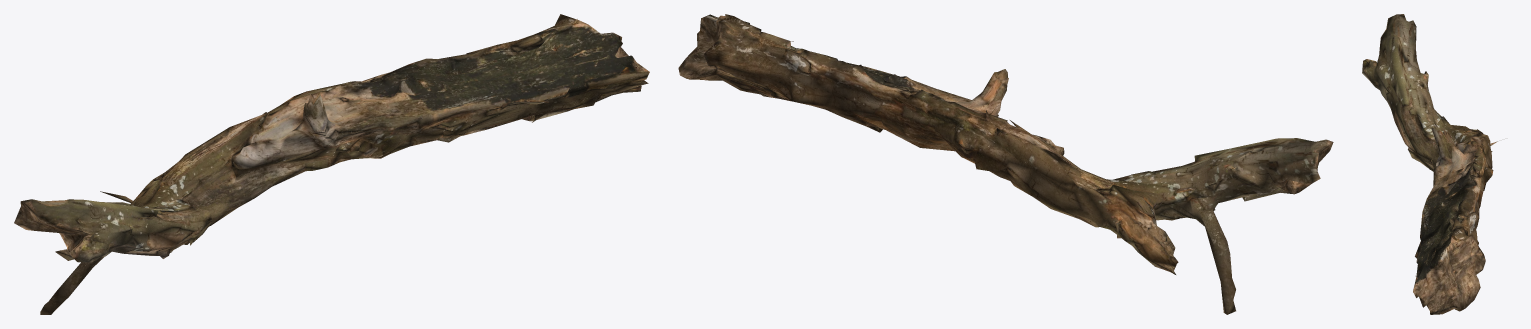
Rendered from dead_tree_trunk_02.glb.
3 views of the same model, side by side, from view 1: azimuth 30°, elevation 25°; view 2: azimuth 150°, elevation 25°; view 3: azimuth 270°, elevation 25° (orthographic). The views are drawn at different scales.
Parts seen in each view (by area): view 1: dead_tree_trunk_02; view 2: dead_tree_trunk_02; view 3: dead_tree_trunk_02.
Boxes of the visible parts, box(x1,y1,x2,y2) form: dead_tree_trunk_02: box(14, 14, 649, 314); dead_tree_trunk_02: box(678, 14, 1333, 314); dead_tree_trunk_02: box(1362, 14, 1497, 314).
Bounding box in the file's own units: 4.05 × 1.05 × 1.04.
Materials: 1 (1 with a texture image).
